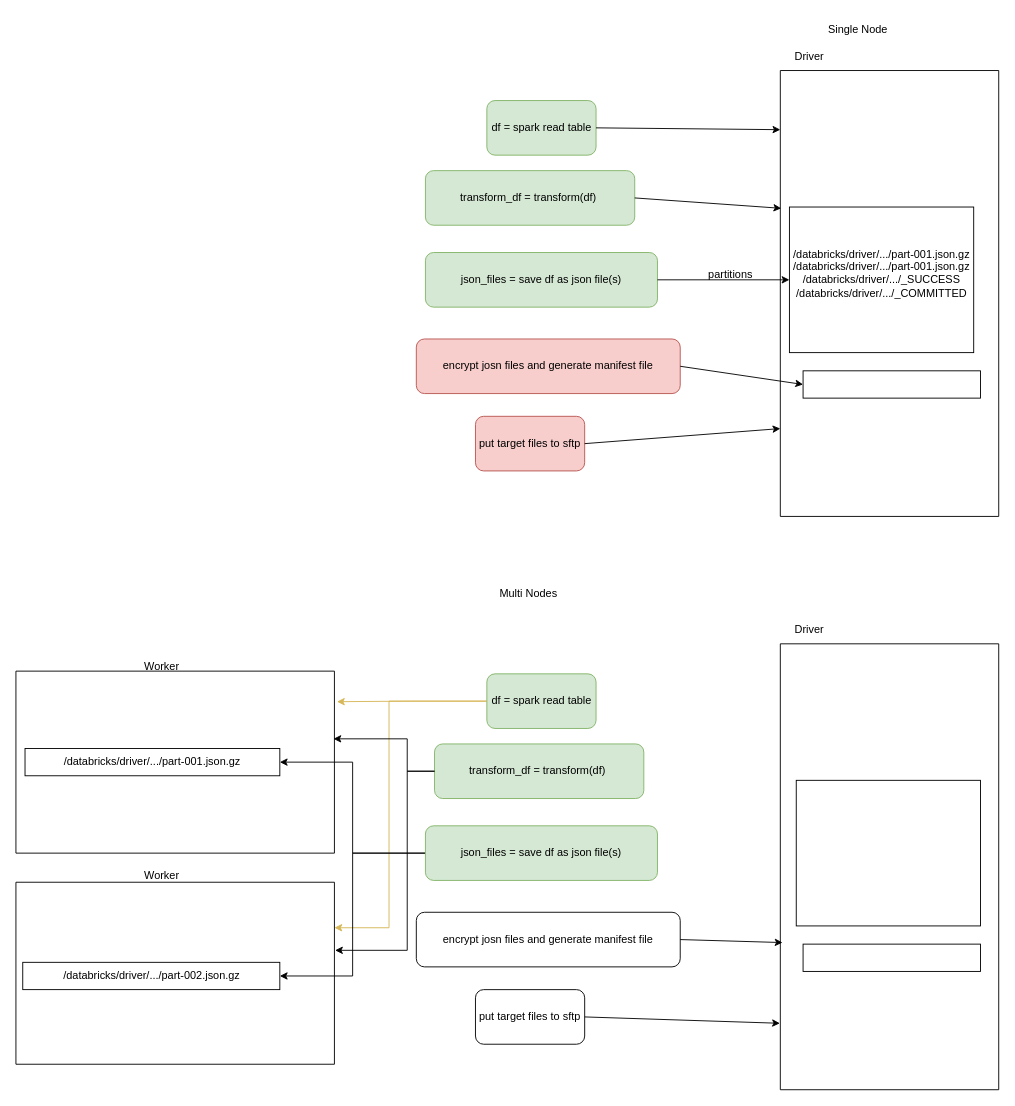
The diagram is 1015 pixels wide and 1106 high, and some of its shapes have lost their labels. Here are the shapes that lost their labels. From the top down, the box of each, then its label:
(802, 370, 981, 398): /databricks/driver
(795, 779, 981, 926): /databricks/driver/.../_SUCCESS /databricks/driver/.../_COMMITTED
